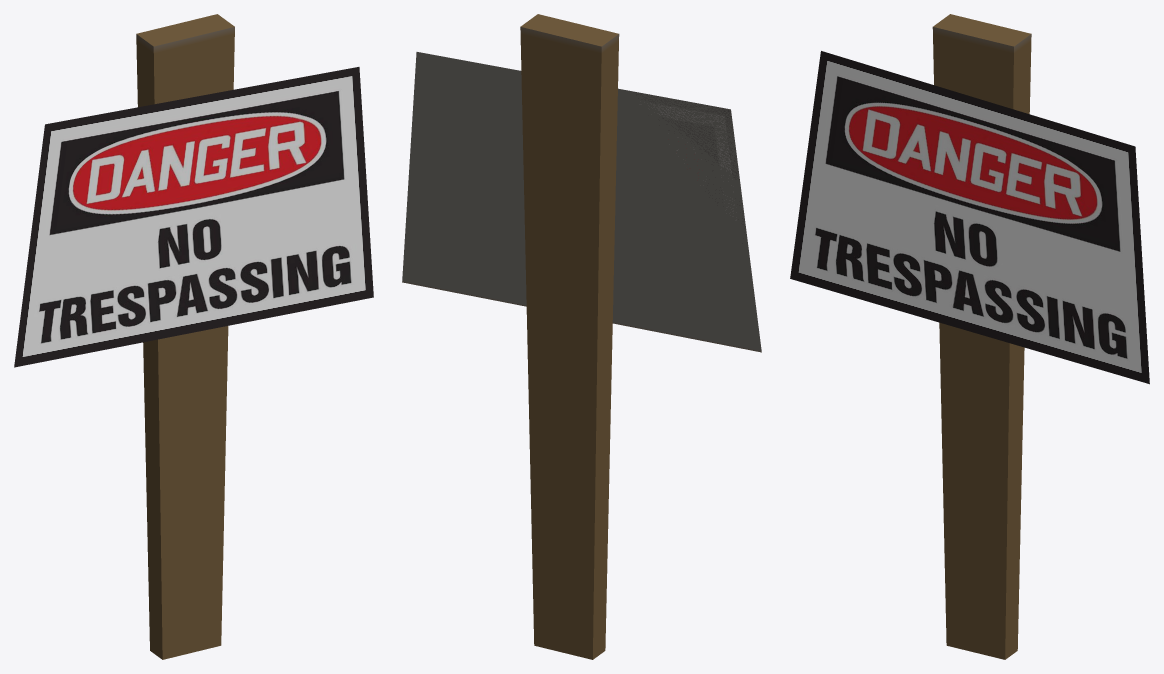
File: trespass.FBX
3 views of the same model, side by side, from view 1: azimuth 30°, elevation 25°; view 2: azimuth 150°, elevation 25°; view 3: azimuth 330°, elevation 25° (orthographic).
Visible parts, largest first — view 1: Box001; view 2: Box001; view 3: Box001.
Part boxes in pixels (x1,y1,x2,y2): Box001: (14,14,373,659); Box001: (402,14,761,659); Box001: (790,14,1149,659).
Bounding box in the file's own units: 26.13 × 2.39 × 42.88.
